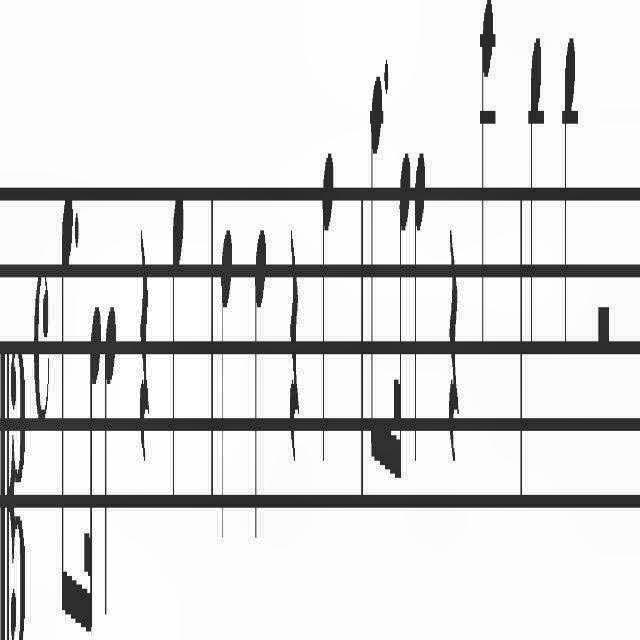Eighth-note: (368, 66, 384, 494), (61, 181, 75, 631)
Quarter-note: (478, 1, 494, 372), (563, 18, 577, 362), (528, 27, 542, 363), (103, 295, 117, 625), (253, 224, 267, 548), (170, 188, 184, 508), (414, 146, 426, 474), (322, 143, 334, 470), (220, 226, 232, 542)
Quarter-rest: (138, 215, 150, 460), (288, 223, 300, 465), (448, 224, 459, 460)
Sixteenth-note: (393, 147, 411, 486), (84, 294, 100, 634)
